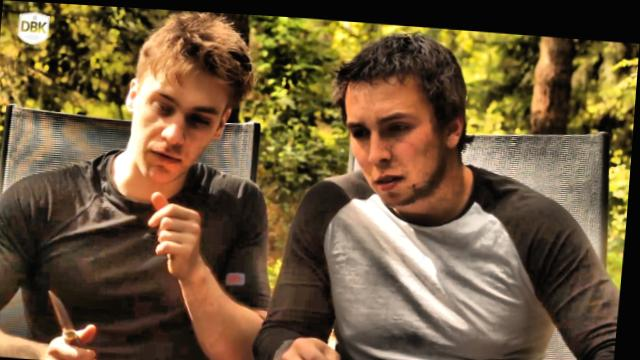knife: (41, 271, 113, 360)
